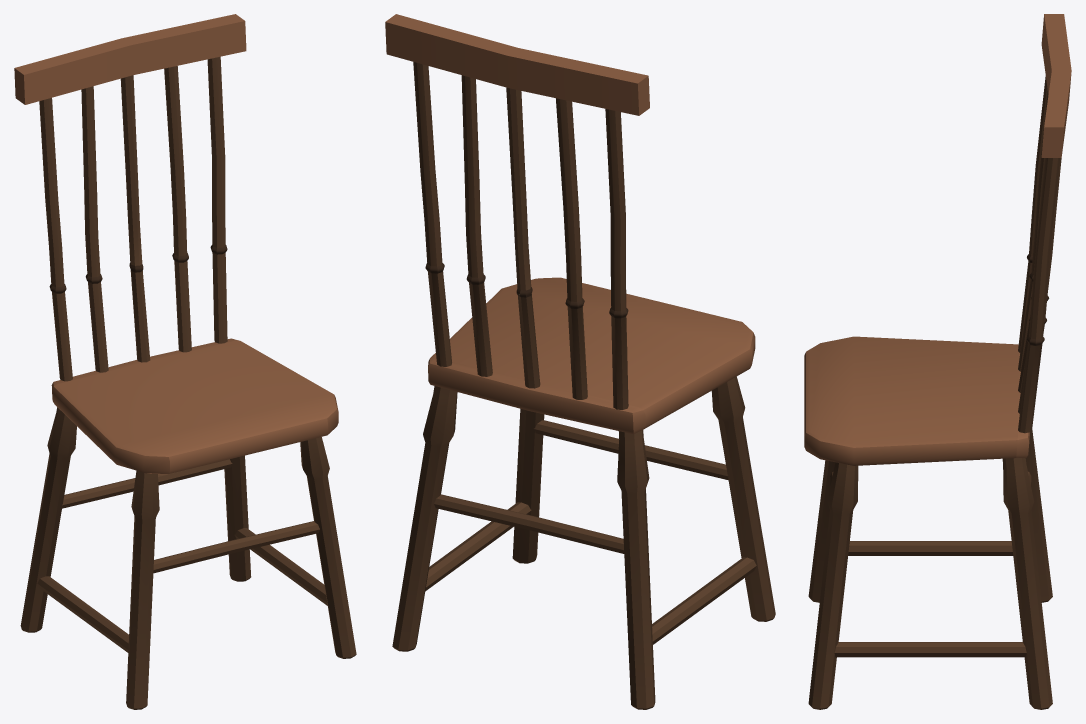
Rendered from chair.fbx.
3 renders of one model, left to right at view 1: azimuth 30°, elevation 25°; view 2: azimuth 150°, elevation 25°; view 3: azimuth 270°, elevation 25°, orthographic. The views are drawn at different scales.
Visible parts, largest first — view 1: Cube; view 2: Cube; view 3: Cube.
Part boxes in pixels (box(x1,y1,x2,y2)): Cube: box(14, 14, 356, 709); Cube: box(385, 14, 775, 709); Cube: box(804, 14, 1071, 709).
Bounding box in the file's own units: 0.5087 × 1.18 × 0.4917.
